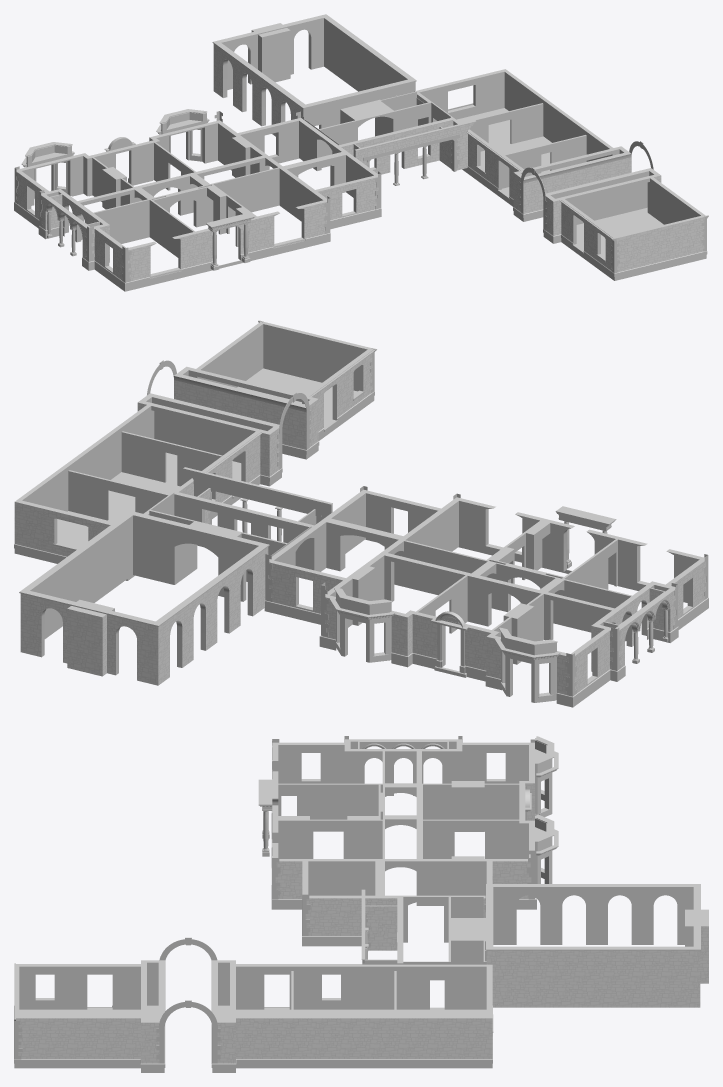
Rendered from RB05__Storey__GroundFloor__ProposedWalls__MeshModel__.glb.
The picture shows the model from 3 angles, top to bottom: view 1: azimuth 30°, elevation 25°; view 2: azimuth 150°, elevation 25°; view 3: azimuth 270°, elevation 25°; orthographic projection. The views are drawn at different scales.
Visible parts, largest first — view 1: 21__ProposedBuilding__Walls::Default, 21__ProposedBuilding__Walls::MAT000E__Masonry__StoneworkPatt; view 2: 21__ProposedBuilding__Walls::Default, 21__ProposedBuilding__Walls::MAT000E__Masonry__StoneworkPatt; view 3: 21__ProposedBuilding__Walls::Default, 21__ProposedBuilding__Walls::MAT000E__Masonry__StoneworkPatt.
Boxes of the visible parts, x1,y1,x2,y2 form: 21__ProposedBuilding__Walls::Default: [14, 14, 708, 291]; 21__ProposedBuilding__Walls::MAT000E__Masonry__StoneworkPatt: [16, 30, 704, 281]; 21__ProposedBuilding__Walls::Default: [14, 320, 708, 707]; 21__ProposedBuilding__Walls::MAT000E__Masonry__StoneworkPatt: [14, 353, 706, 694]; 21__ProposedBuilding__Walls::Default: [14, 736, 708, 1072]; 21__ProposedBuilding__Walls::MAT000E__Masonry__StoneworkPatt: [16, 783, 708, 1063].
Size of the model in its own units: 42.28 by 5.05 by 43.94.
2 materials, 1 textured.
